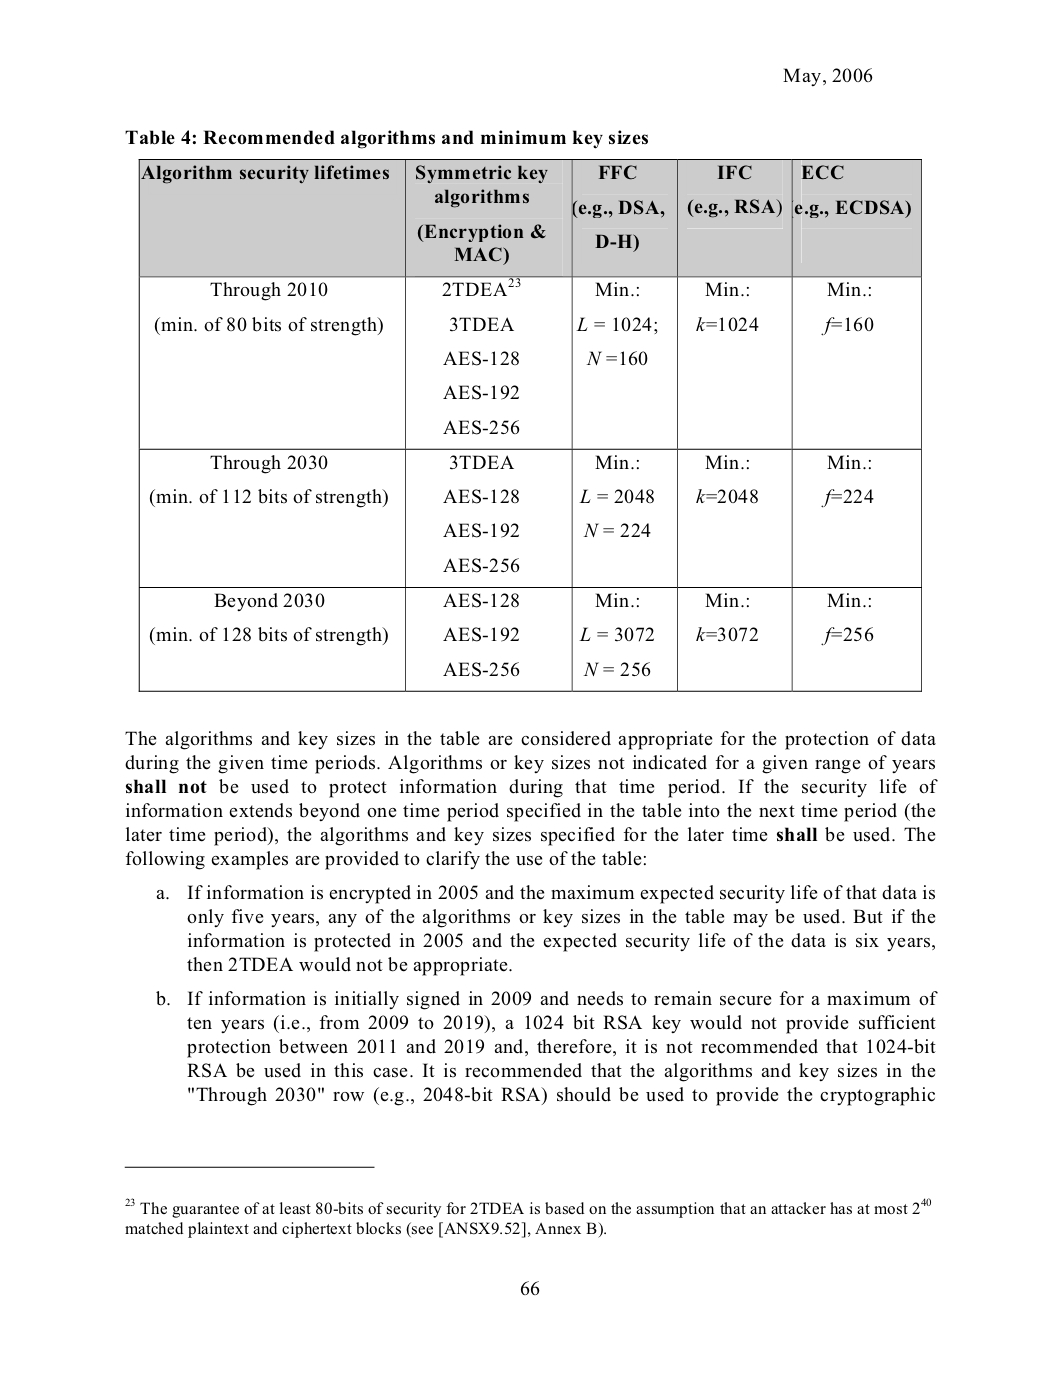Table: (138, 158, 921, 692)
